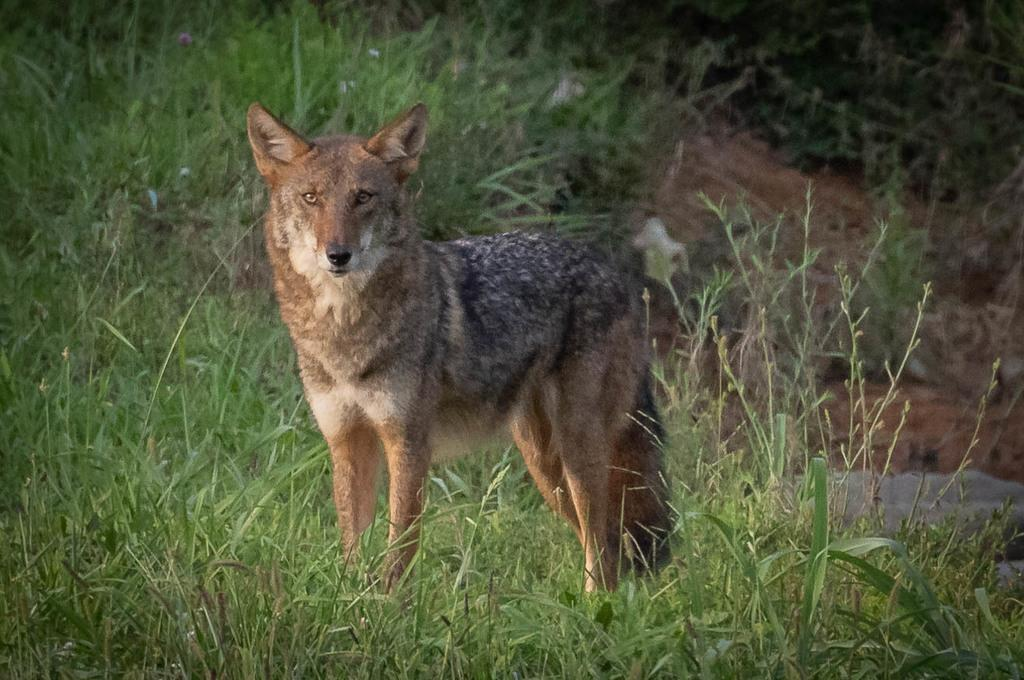Coyote: (240, 97, 683, 604)
